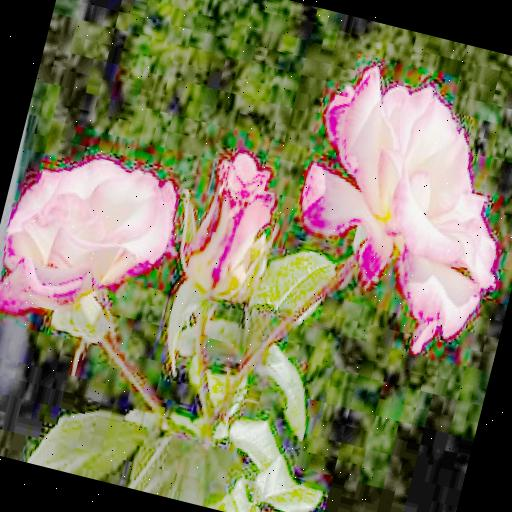rose: (274, 57, 512, 358), (0, 142, 187, 336)
